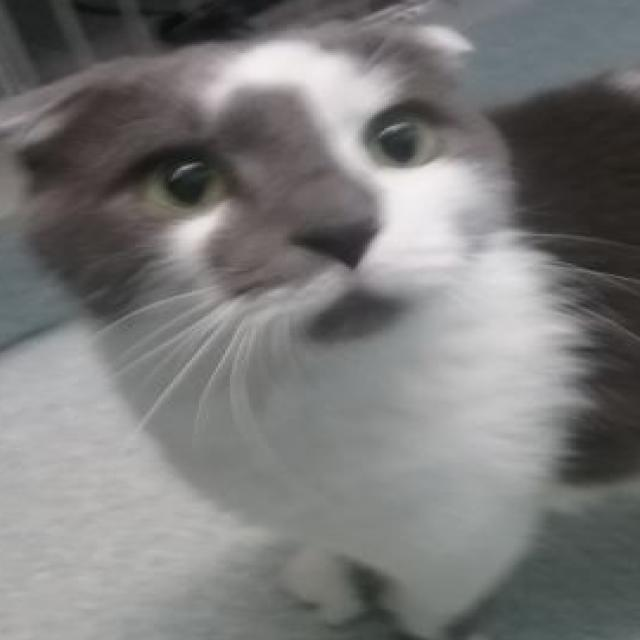Scottish Fold: (0, 3, 640, 640)
